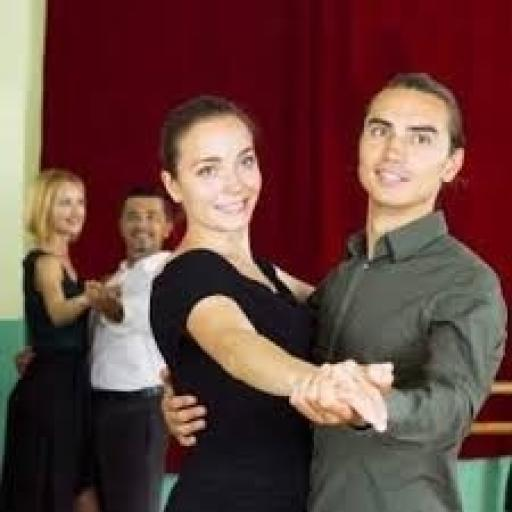dancing: (169, 46, 465, 485)
